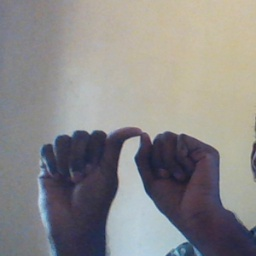A: (37, 121, 221, 223)
